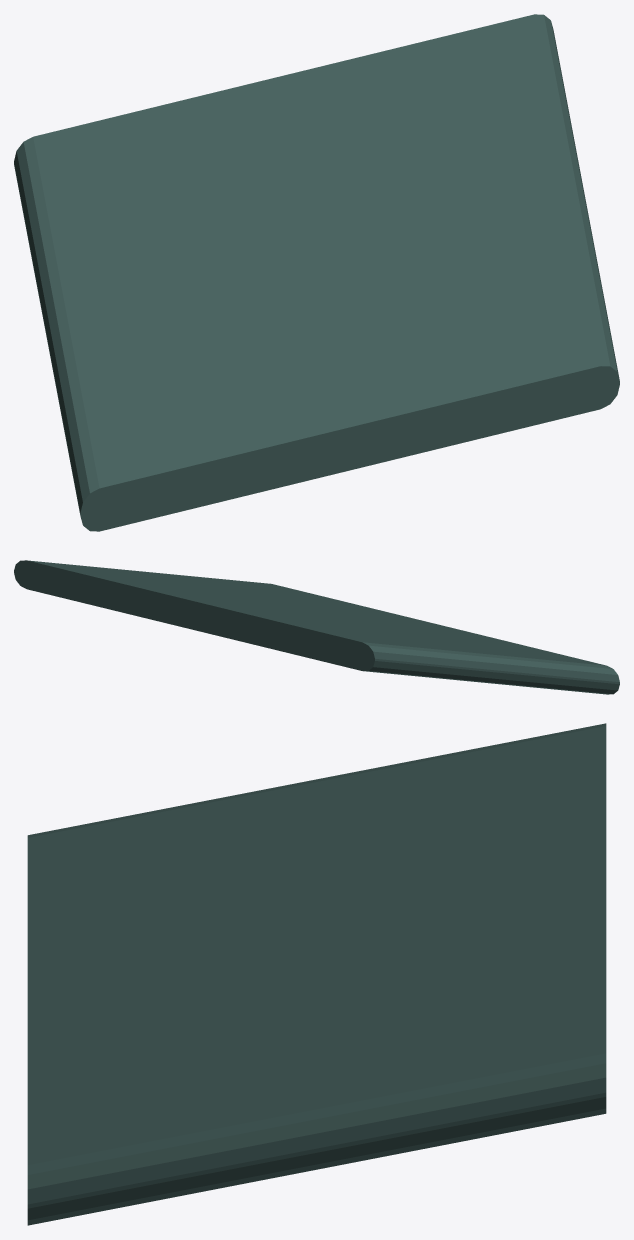
Rendered from Spring_PadOff.gltf.
3 views of the same model, one above another, from view 1: azimuth 30°, elevation 25°; view 2: azimuth 150°, elevation 25°; view 3: azimuth 270°, elevation 25° (orthographic). The views are drawn at different scales.
Parts seen in each view (by area): view 1: Spring_PadOff_baked; view 2: Spring_PadOff_baked; view 3: Spring_PadOff_baked.
Boxes of the visible parts, box(x1,y1,x2,y2) form: Spring_PadOff_baked: box(14, 14, 619, 531); Spring_PadOff_baked: box(14, 560, 619, 694); Spring_PadOff_baked: box(27, 723, 606, 1225).
Bounding box in the file's own units: 0.92 × 0.255 × 0.5.
